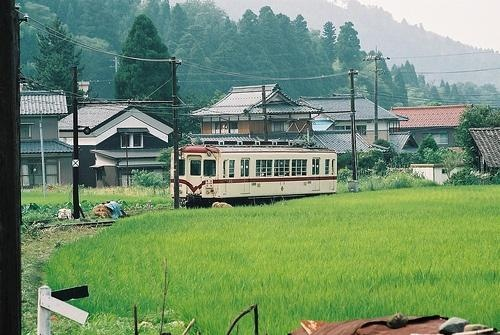train: (170, 137, 341, 210)
